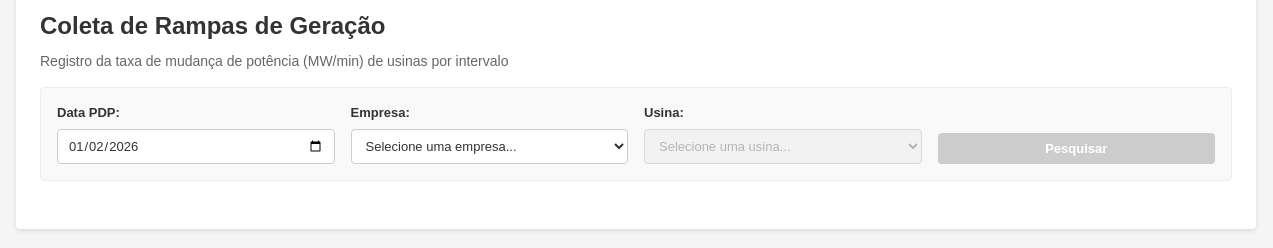
it: Ramp Component › Filter Interactions › deve habilitar filtro de usina ao selecionar empresa
Select "Empresa Geradora A" in the dropdown with test id "company-filter" at (489, 146), box [350,129,628,164]
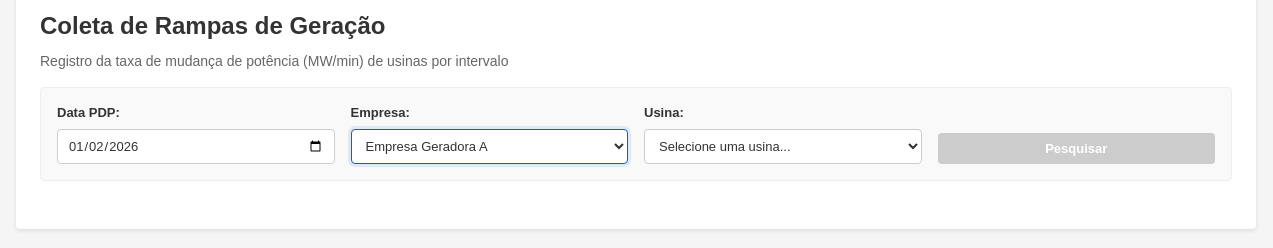
Now the dropdown with test id "plant-filter" is enabled, box [644,129,922,164]
